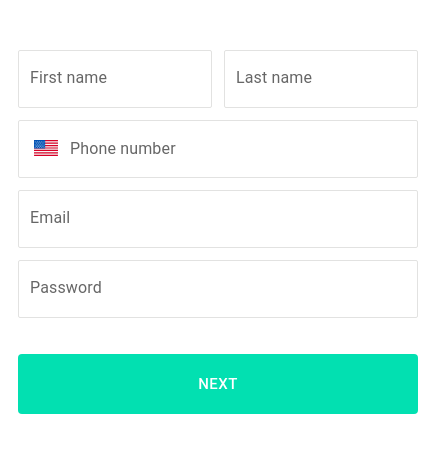
Test: When Email field have an invalid Email
This screenshot has width=437, height=465.
Type "email@.com" into the field labelled "Email".
click(218, 219); type("email@.com")  # box [19,191,417,247]
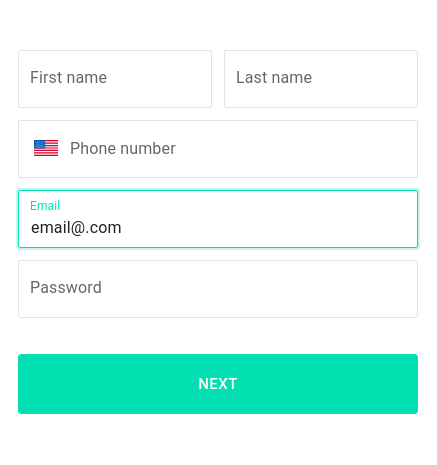
Click the button "NEXT".
click(218, 384)  # box [18,354,418,414]
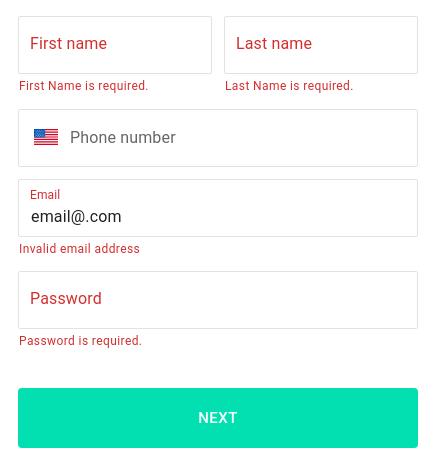
expect the text "Invalid email address" is shown: met, box [19,242,140,256]
